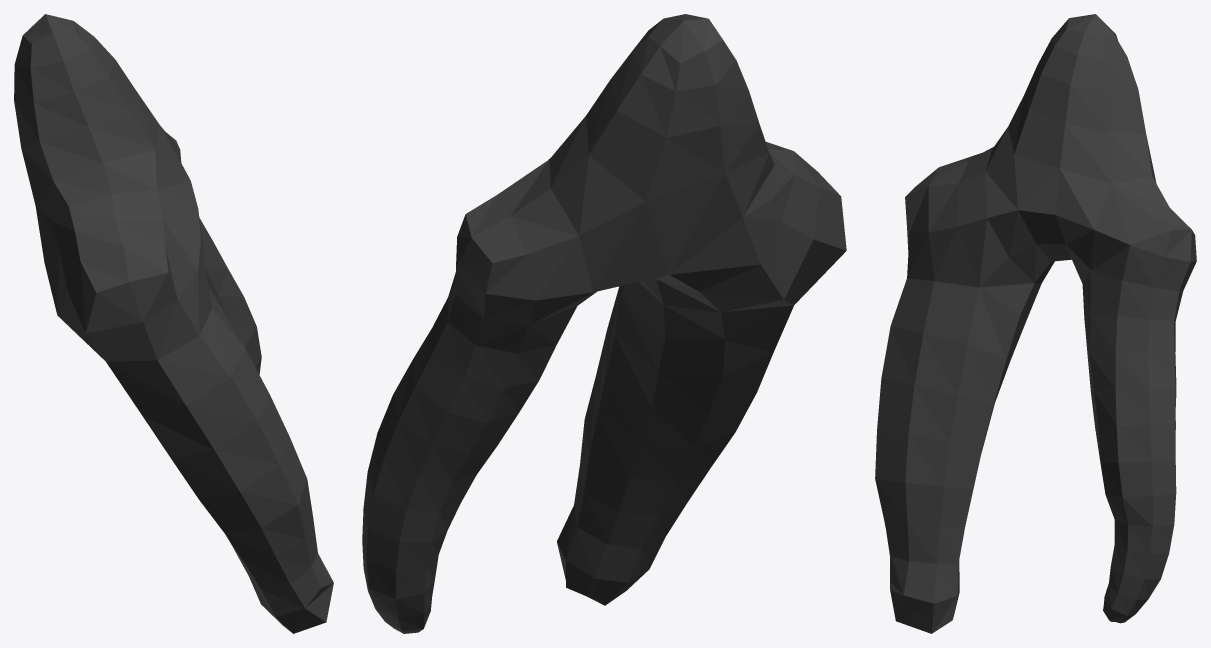
3 views of the same model, side by side, from view 1: azimuth 30°, elevation 25°; view 2: azimuth 150°, elevation 25°; view 3: azimuth 270°, elevation 25° (orthographic). The views are drawn at different scales.
Parts seen in each view (by area): view 1: world; view 2: world; view 3: world.
Boxes of the visible parts, <box> form: world: <box>14,14,333,633</box>; world: <box>362,14,846,633</box>; world: <box>875,14,1196,633</box>.
Bounding box in the file's own units: 0.0449 × 0.0874 × 0.047.
1 material, 1 textured.
